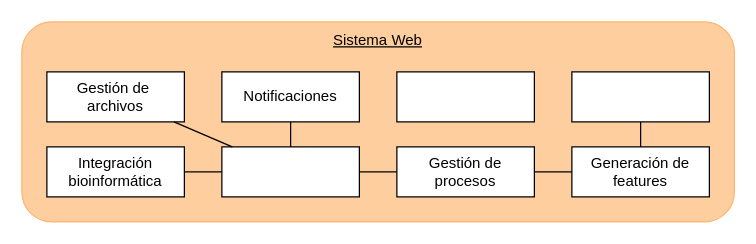
Image size: 756x244. Some labels were removed from this diagram. The box of each missing label's shape, as (x1, y1, x2, y2) in pixels:
Autenticación y control de acceso: (396, 71, 534, 122)
Ejecución asíncrona: (221, 146, 359, 197)
Predicción: (571, 71, 709, 122)
